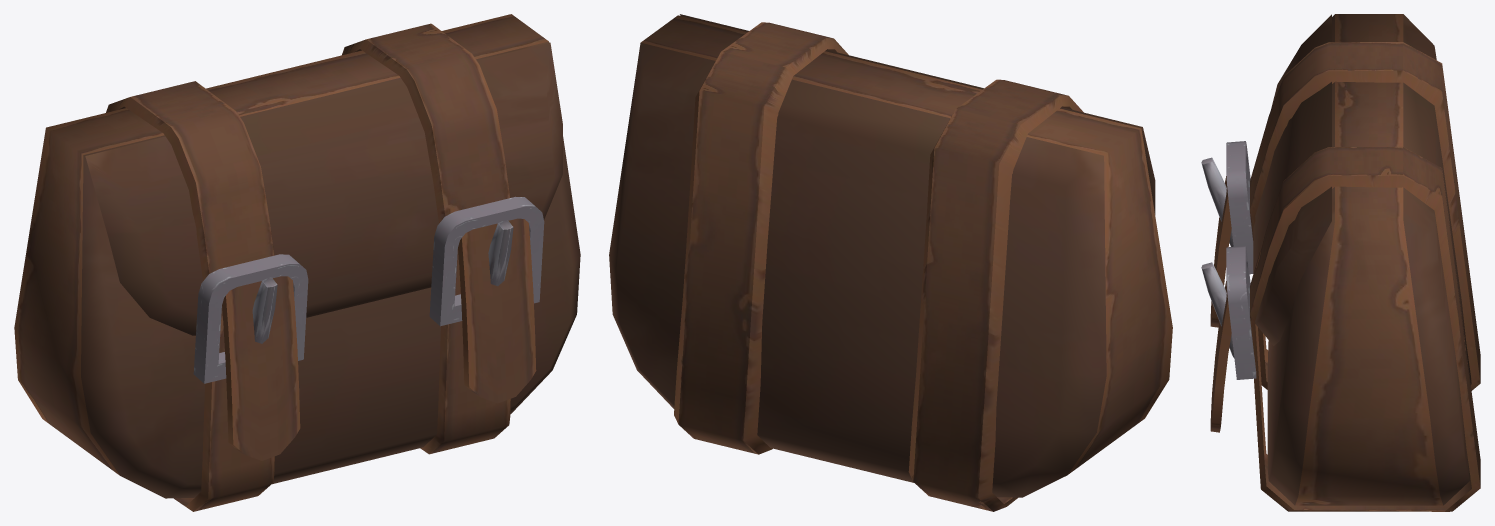
The model's file is Pouch_Large.gltf.
The picture shows the model from 3 angles, left to right: view 1: azimuth 30°, elevation 25°; view 2: azimuth 150°, elevation 25°; view 3: azimuth 270°, elevation 25°; orthographic projection. The views are drawn at different scales.
Visible parts, largest first — view 1: Pouch_Large; view 2: Pouch_Large; view 3: Pouch_Large.
Part boxes in pixels (left/top/right/bottom): Pouch_Large: left=14, top=14, right=580, bottom=511; Pouch_Large: left=609, top=14, right=1172, bottom=511; Pouch_Large: left=1201, top=14, right=1480, bottom=511.
Bounding box in the file's own units: 0.2255 × 0.1591 × 0.1198.
Materials: 2 (2 with a texture image).
